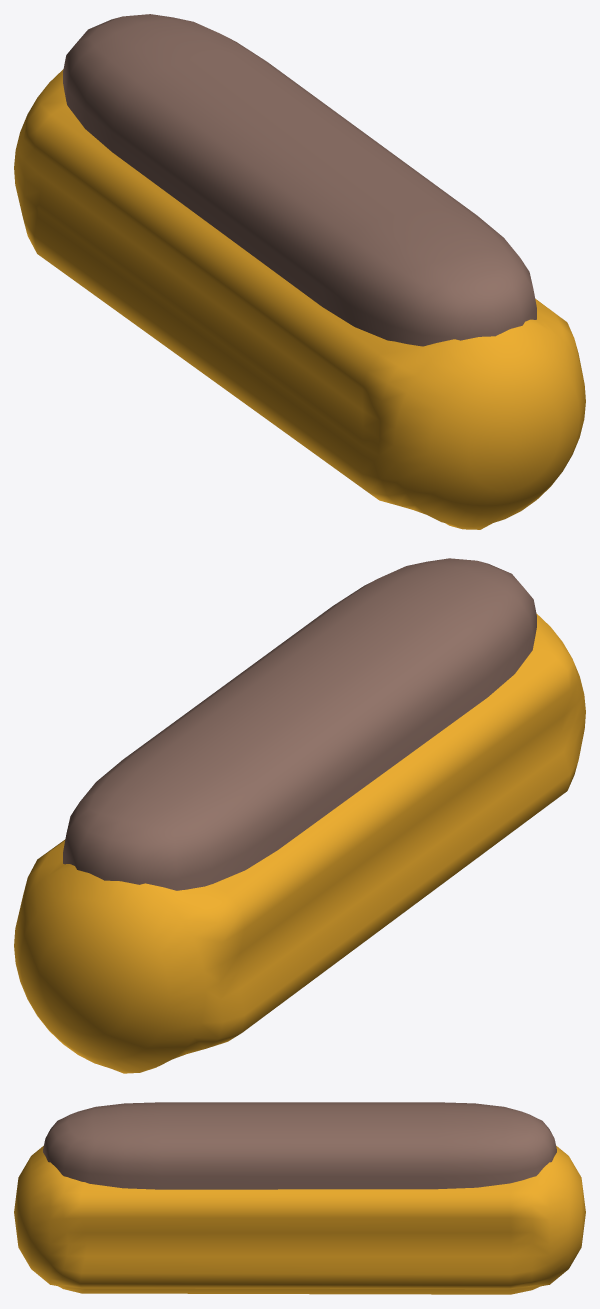
The model's file is Eclair.fbx.
The picture shows the model from 3 angles, top to bottom: view 1: azimuth 30°, elevation 25°; view 2: azimuth 150°, elevation 25°; view 3: azimuth 270°, elevation 25°; orthographic projection. The views are drawn at different scales.
Visible parts, largest first — view 1: Eclair; view 2: Eclair; view 3: Eclair.
Boxes of the visible parts, box(x1,y1,x2,y2) form: Eclair: box(14, 14, 585, 529); Eclair: box(14, 558, 585, 1073); Eclair: box(14, 1102, 585, 1294).
Size of the model in its own units: 5.68 by 7.05 by 20.36.
